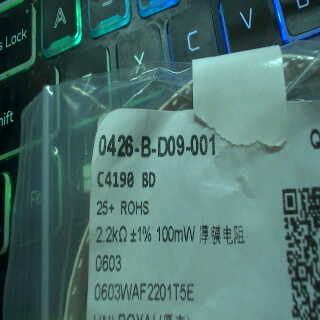2.2kR: (96, 223, 127, 250)
